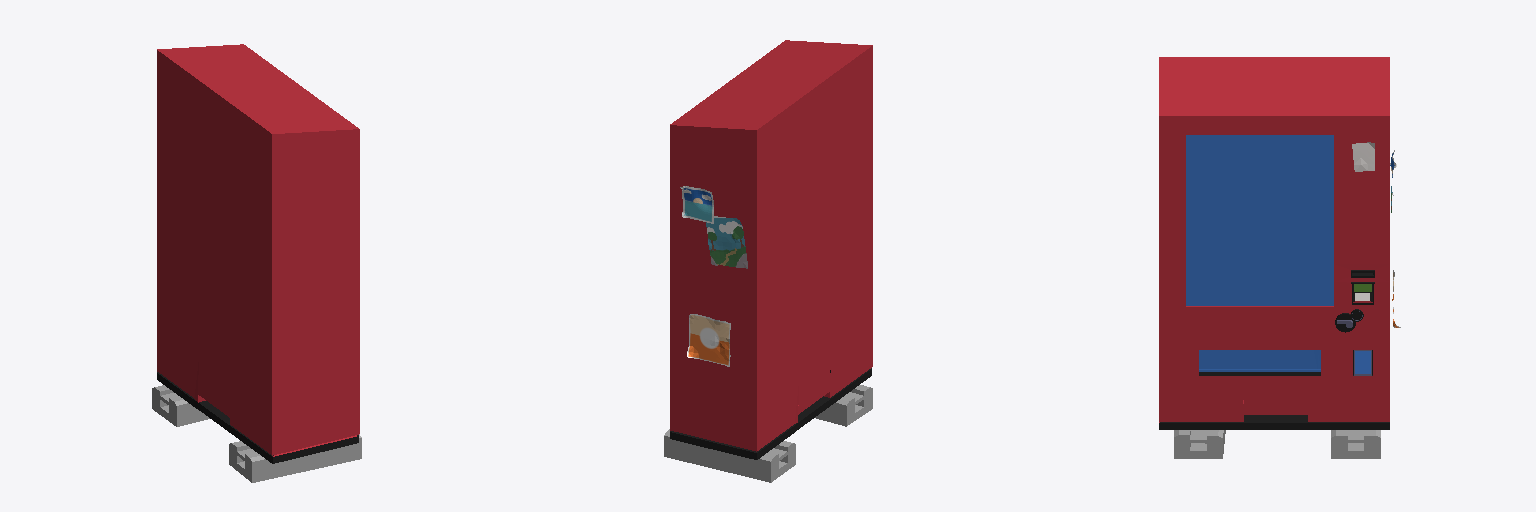
3 renders of one model, left to right at view 1: azimuth 30°, elevation 25°; view 2: azimuth 150°, elevation 25°; view 3: azimuth 270°, elevation 25°, orthographic.
Visible parts, largest first — view 1: Cube.327; view 2: Cube.327; view 3: Cube.327.
Boxes of the visible parts, box(x1,y1,x2,y2) form: Cube.327: box(152, 44, 361, 482); Cube.327: box(664, 40, 872, 482); Cube.327: box(1159, 57, 1400, 458).
Size of the model in its own units: 0.1463 by 0.4554 by 0.2831.
Materials: 5 (4 with a texture image).